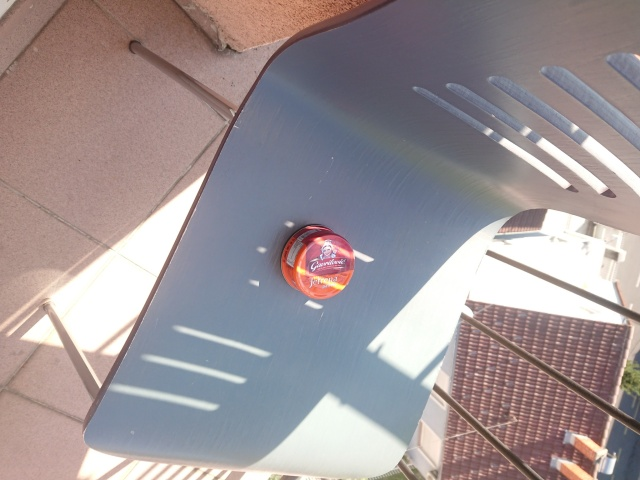Gavrilovic Pork Liver Pate 100g: (277, 221, 357, 300)
